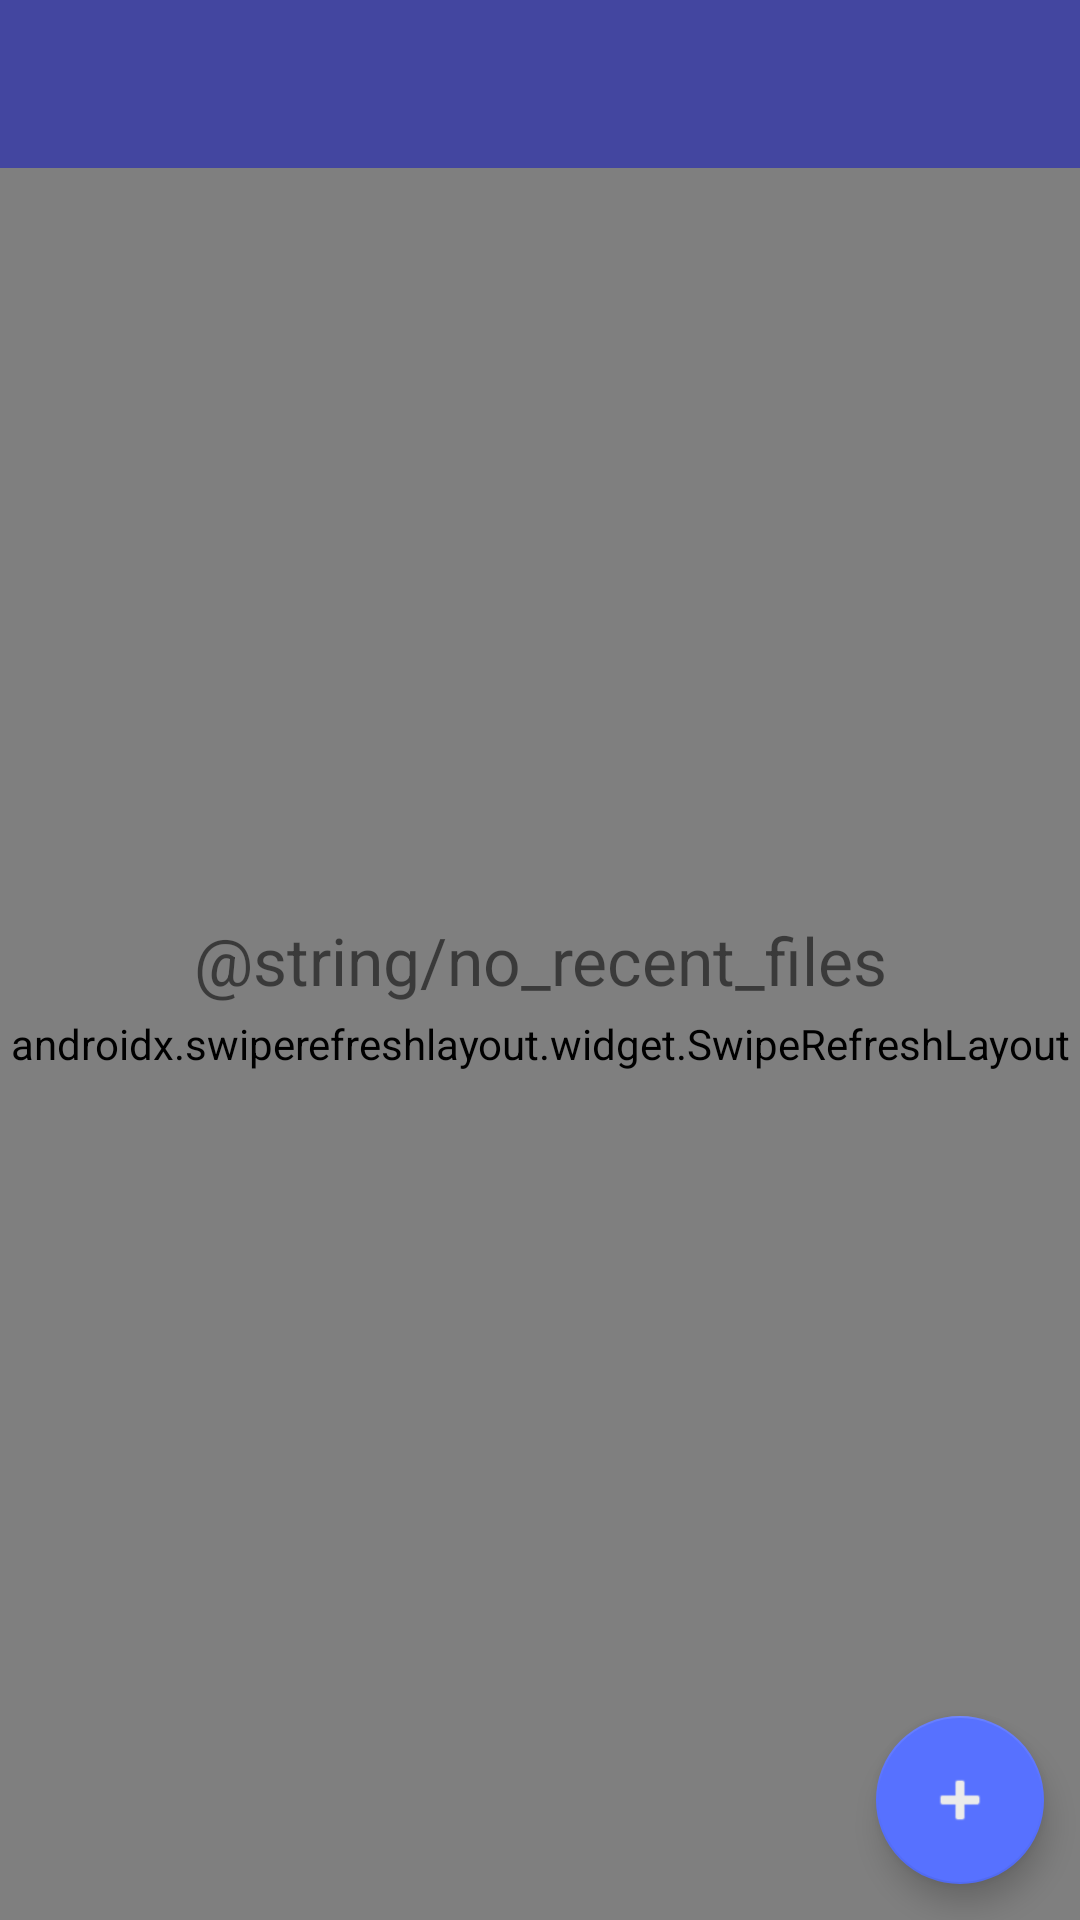

Icons on this 1080 × 1920 Android screen, each with its box as bbox(x1, y1, x2, y2):
add: bbox(876, 1716, 1044, 1884)
